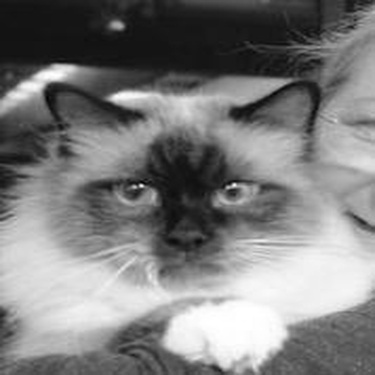cat: (3, 66, 369, 369)
